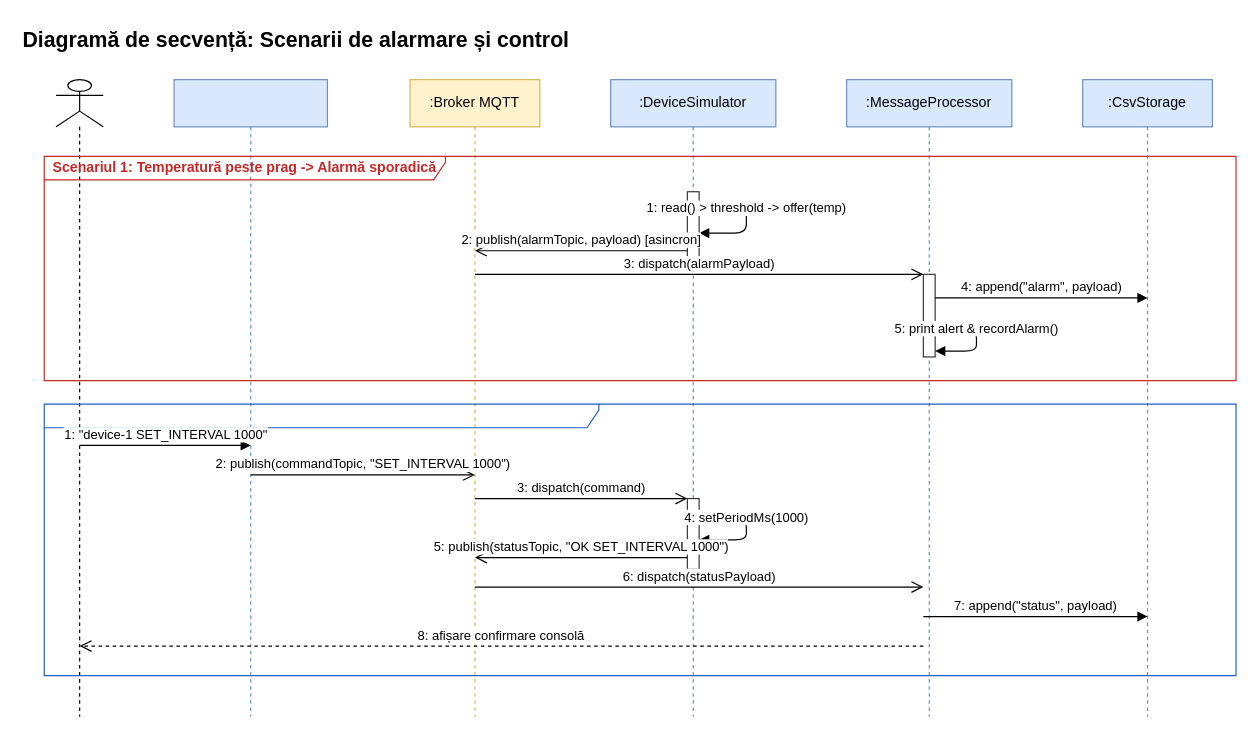
Some shapes in this 1257 by 737 pixel diagram are drawn without their labels. The shapes that lost their labels are listed below. From the top down, each one's box as (x1, y1, x2, y2) in pixels, then its label:
(55, 78, 103, 717): Operator
(173, 78, 327, 717): :CommandConsole
(43, 403, 1236, 676): Scenariul 2: Operator trimite SET_INTERVAL -> Execuție aperiodică și confirmare
